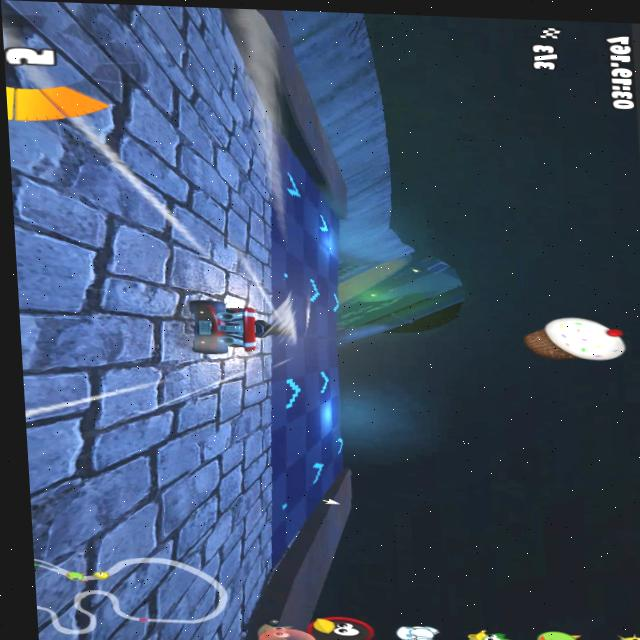player_kart: (178, 298, 278, 366)
power_up: (273, 373, 302, 416), (294, 454, 330, 486), (300, 264, 325, 307), (277, 166, 307, 201), (314, 365, 337, 404), (324, 285, 344, 316), (313, 211, 330, 238)
track: (4, 0, 235, 298), (21, 356, 234, 640), (18, 277, 186, 369), (218, 365, 278, 563), (227, 71, 278, 303), (235, 558, 270, 604)
